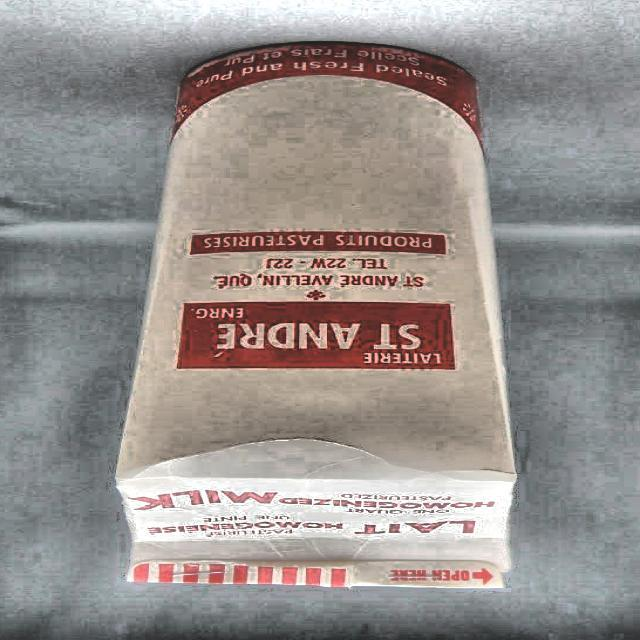cardboard: (113, 42, 520, 588)
